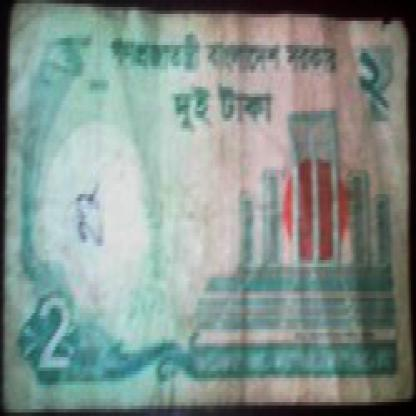two taka: (175, 76, 276, 139), (360, 42, 410, 138), (32, 278, 70, 382)
